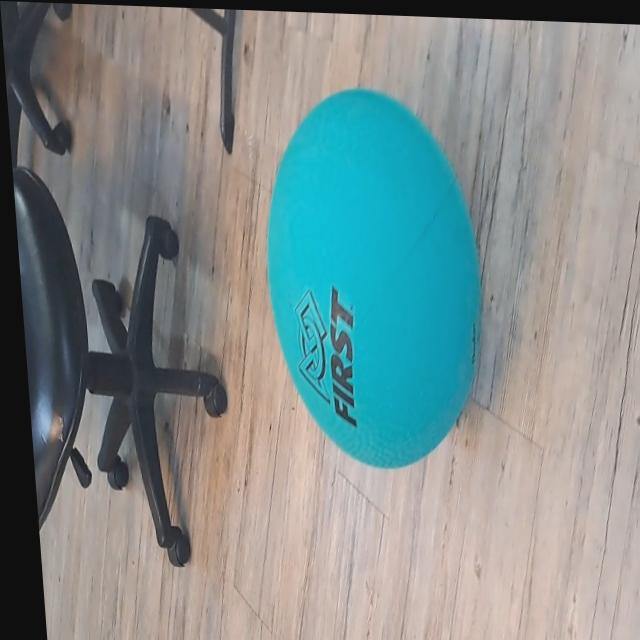ALGAE: (251, 83, 496, 475)
